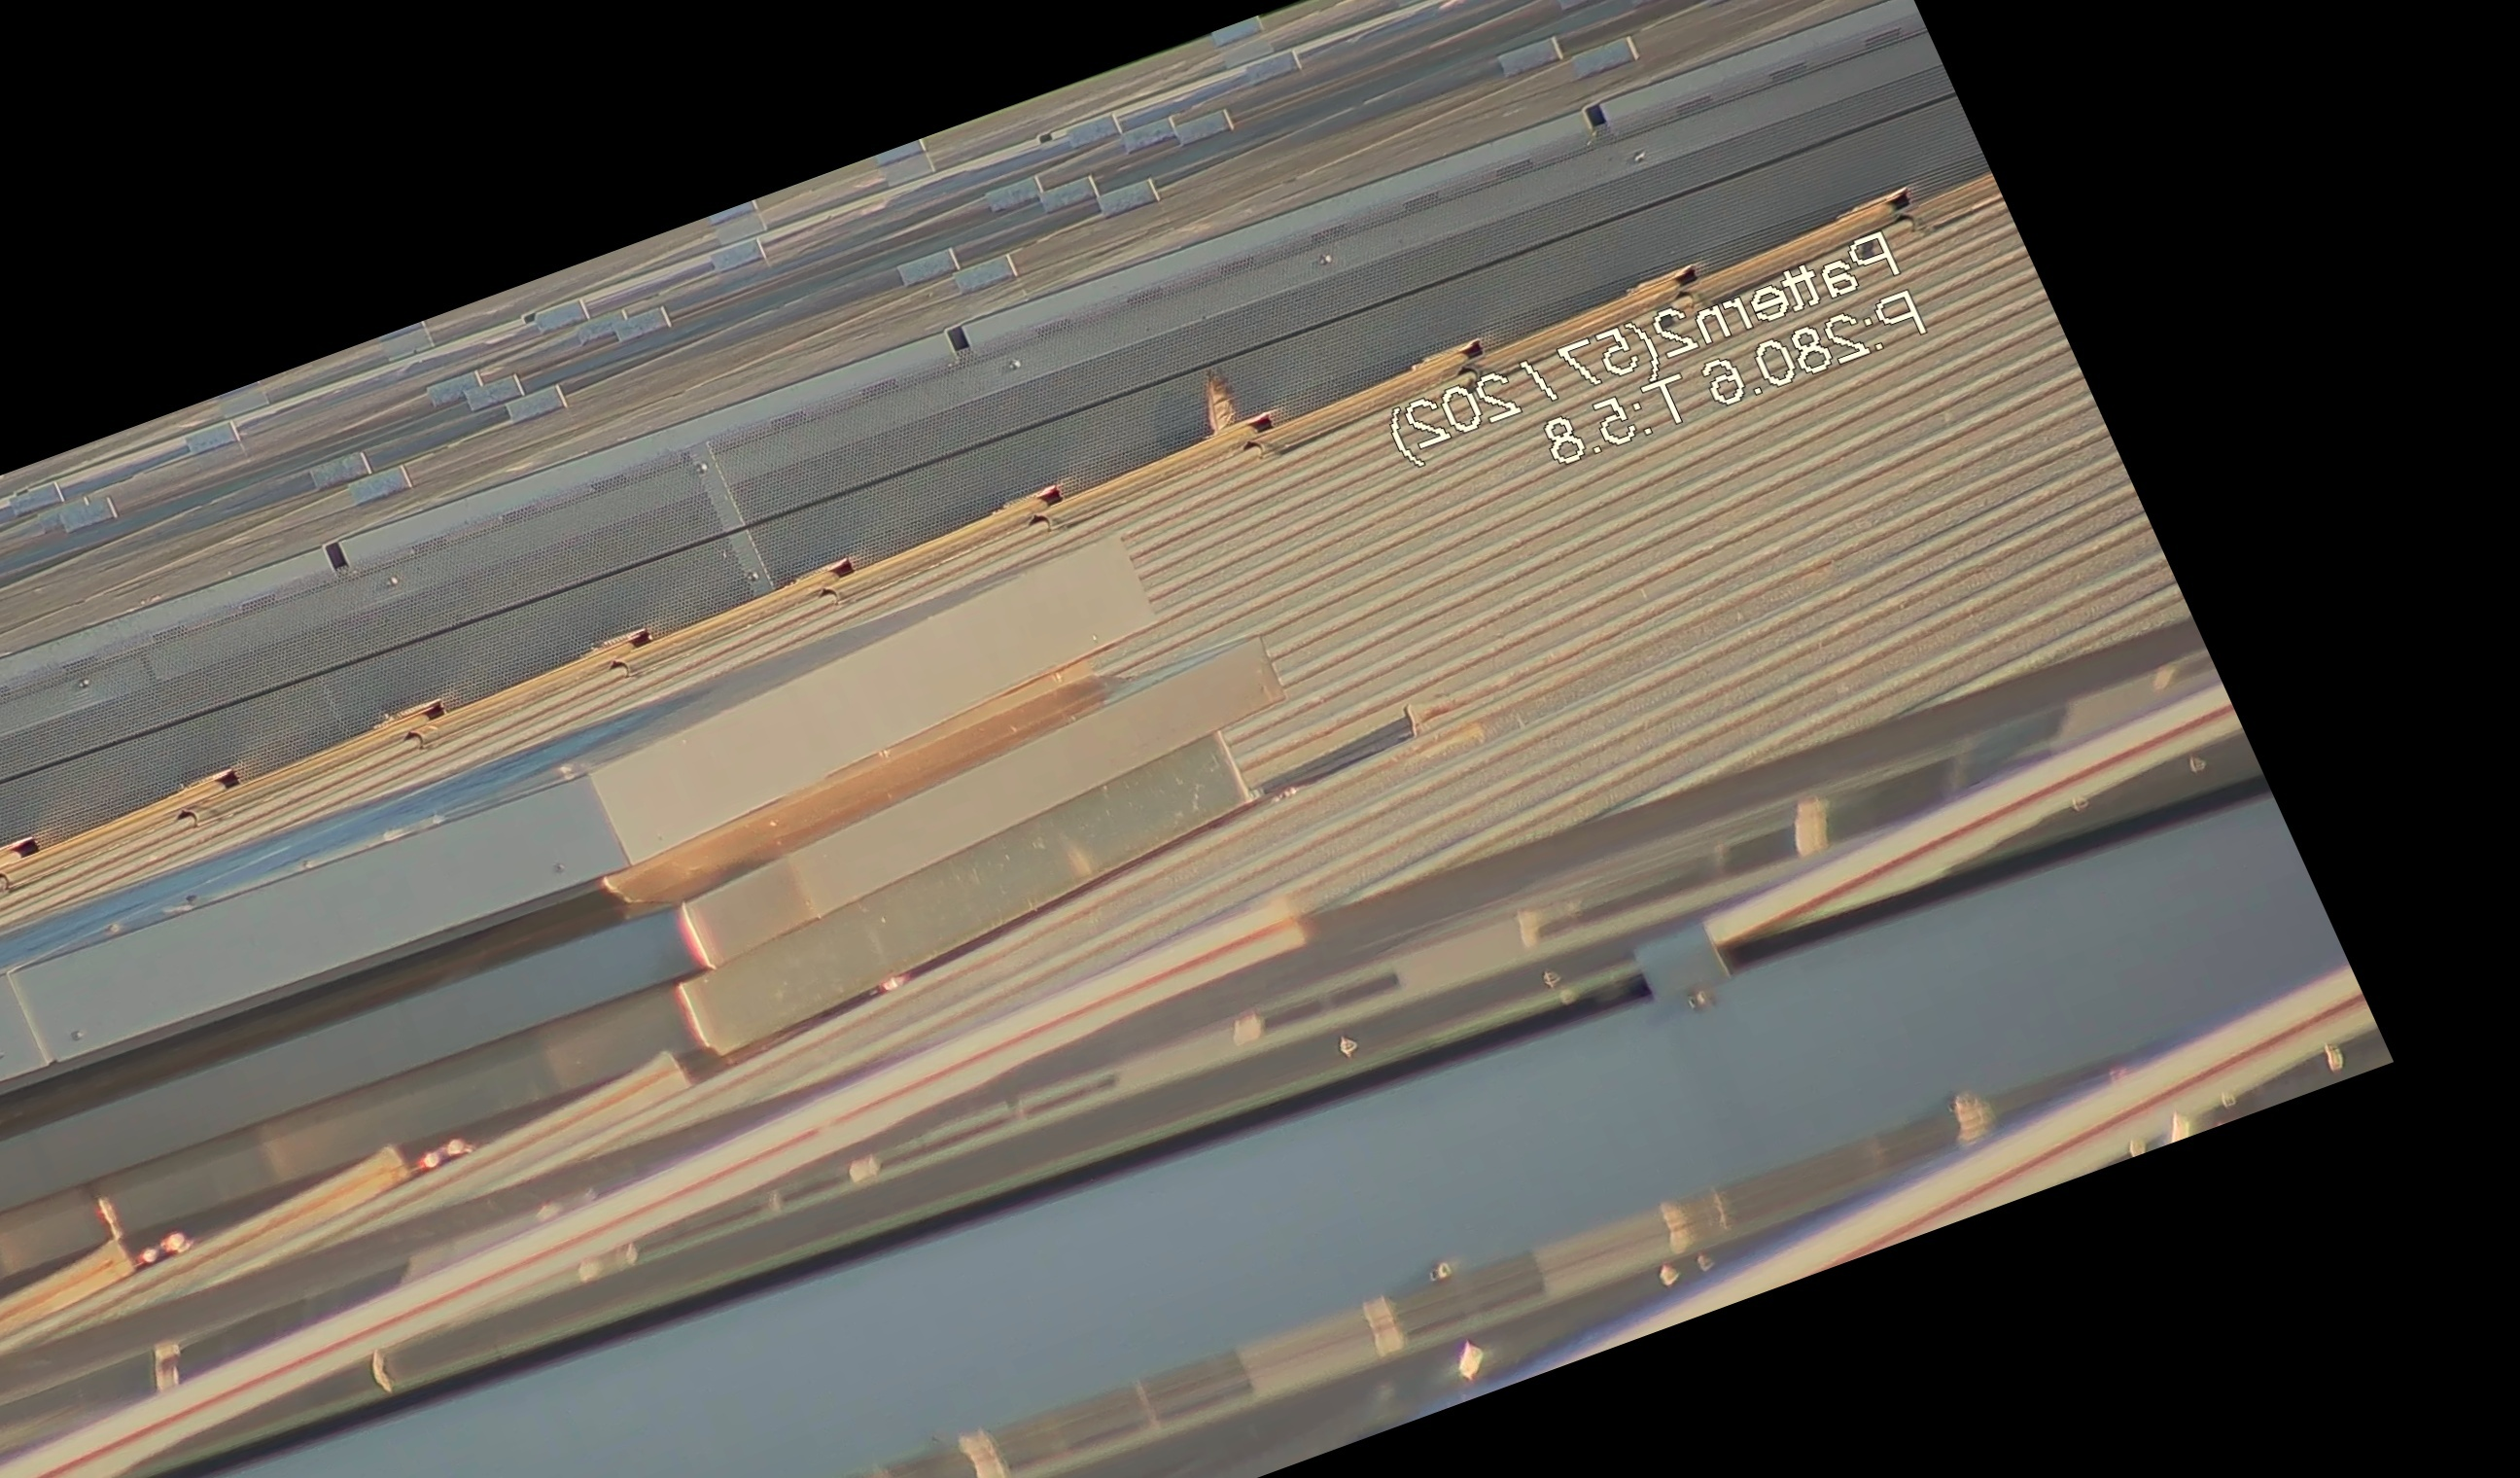Other: (1176, 343, 1275, 449)
